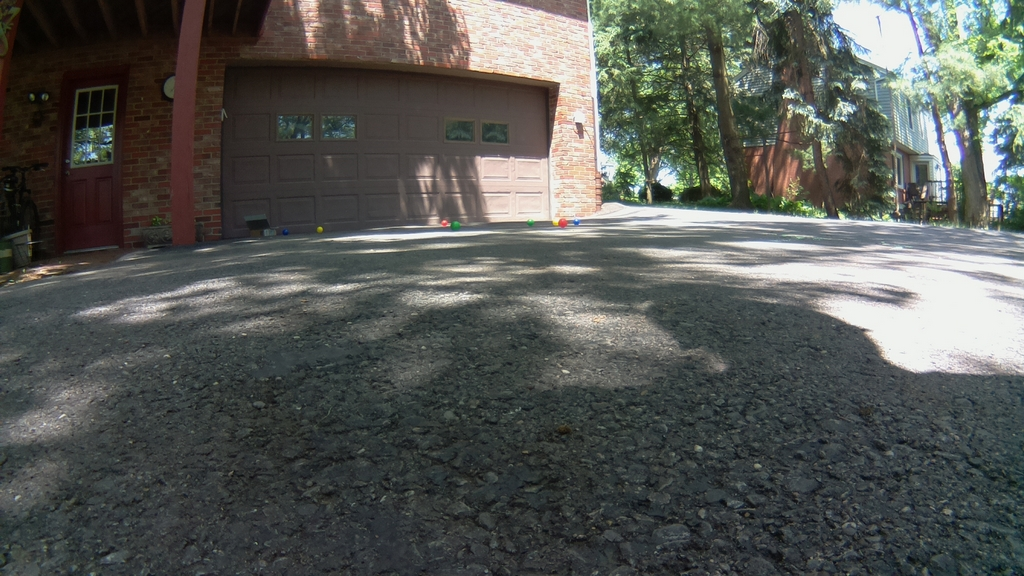ball: (530, 219, 532, 221)
